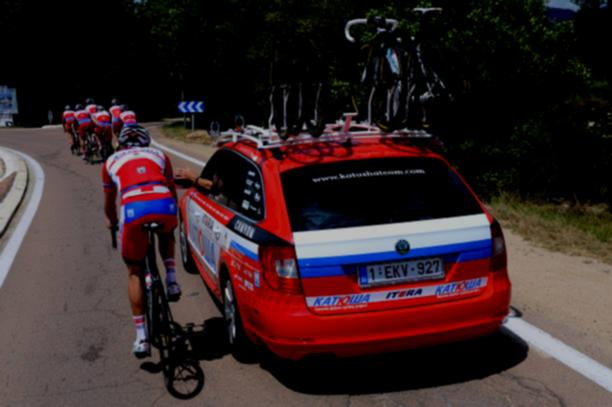skoda: (392, 238, 419, 258)
